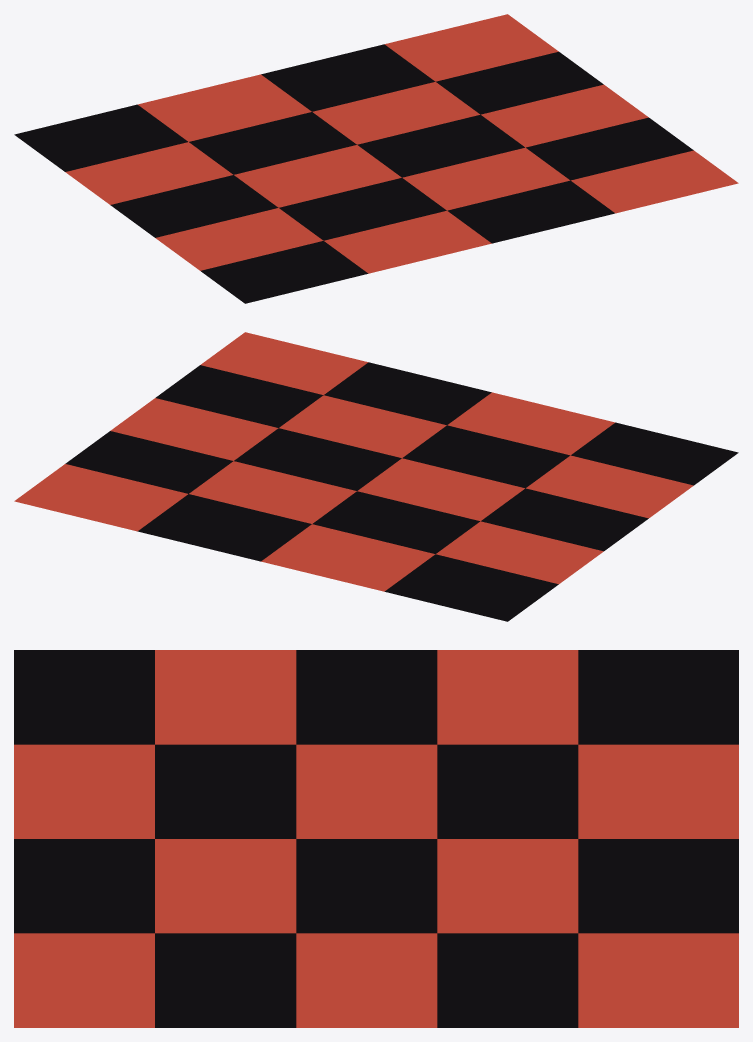
The model's file is plataforma.fbx.
The picture shows the model from 3 angles, top to bottom: view 1: azimuth 30°, elevation 25°; view 2: azimuth 150°, elevation 25°; view 3: azimuth 270°, elevation 25°; orthographic projection. The views are drawn at different scales.
Visible parts, largest first — view 1: Plane; view 2: Plane; view 3: Plane.
Part boxes in pixels (x1=…): Plane: x1=14, y1=14, x2=738, y2=303; Plane: x1=14, y1=332, x2=738, y2=621; Plane: x1=14, y1=650, x2=738, y2=1027.
Size of the model in its own units: 11.11 by 1.47e-06 by 9.01.
